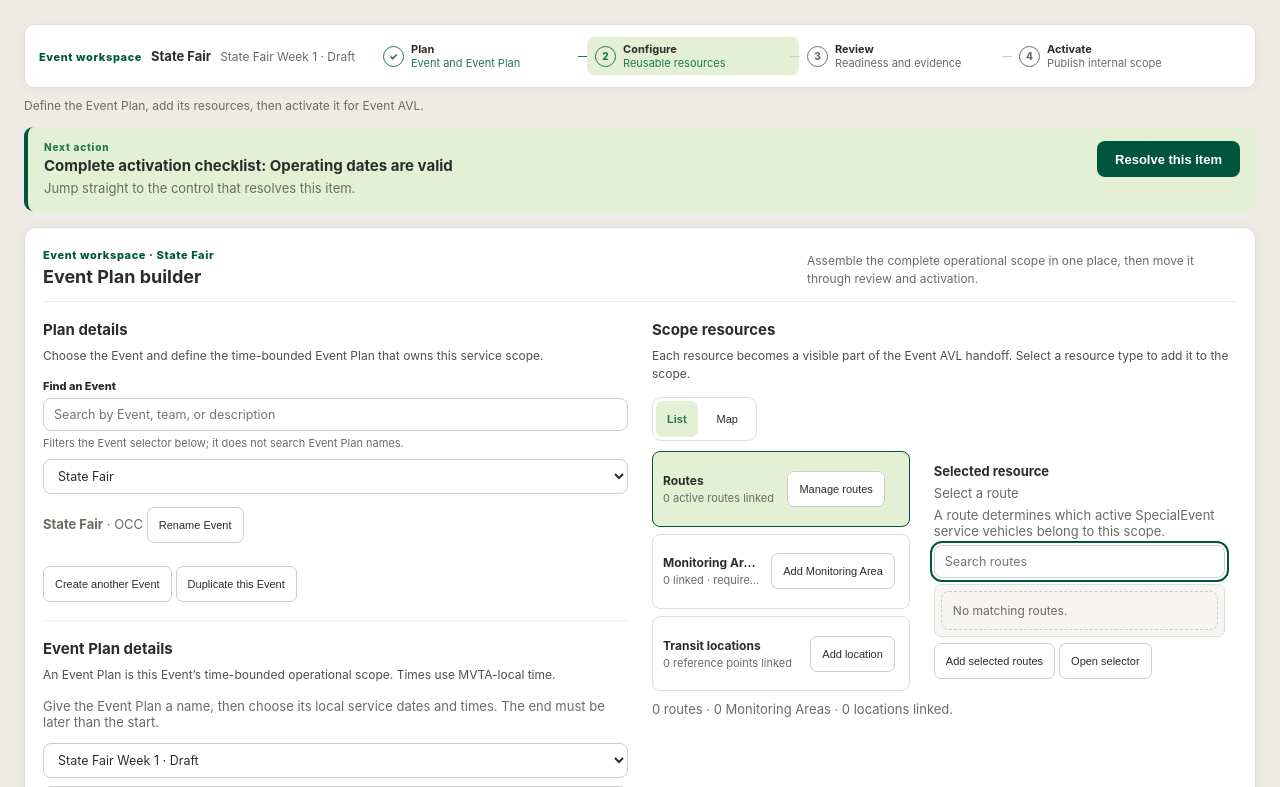
Test: EventPlanning › bulk resource linking › switches the guided resource canvas to the selected resource type
Click the button "Add Monitoring Area" at (833, 571), box x1=771 y1=553 x2=895 y2=589
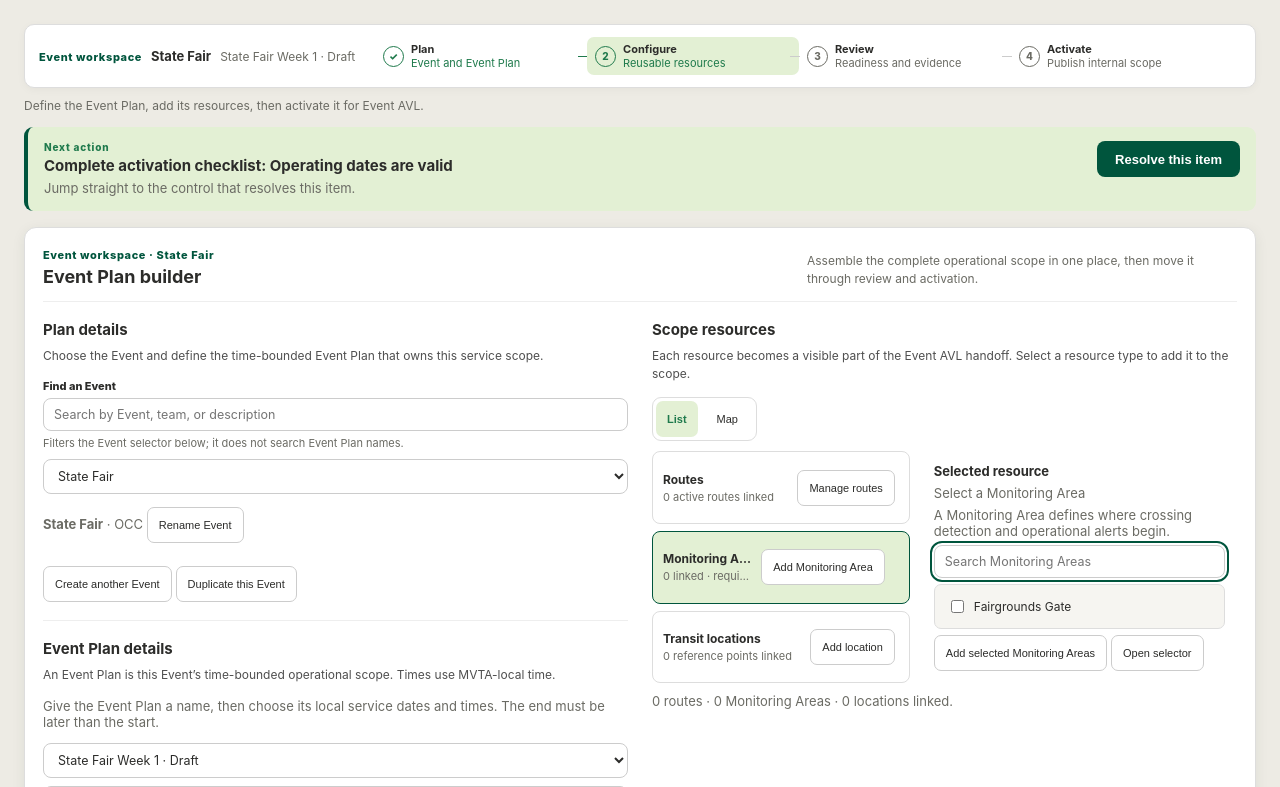
Expected: the button "Add selected Monitoring Areas" is disabled, x1=934 y1=635 x2=1107 y2=671
Result: the element named "Select Monitoring Areas" is shown at x1=934 y1=584 x2=1225 y2=629
Result: the text "Fairgrounds Gate" is shown at x1=974 y1=599 x2=1071 y2=614
